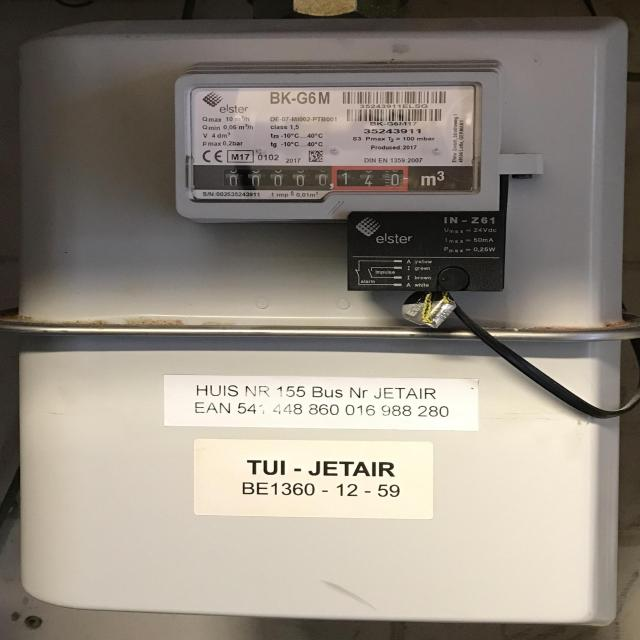gaz_meter: (186, 84, 482, 196)
indication: (218, 166, 414, 196)
